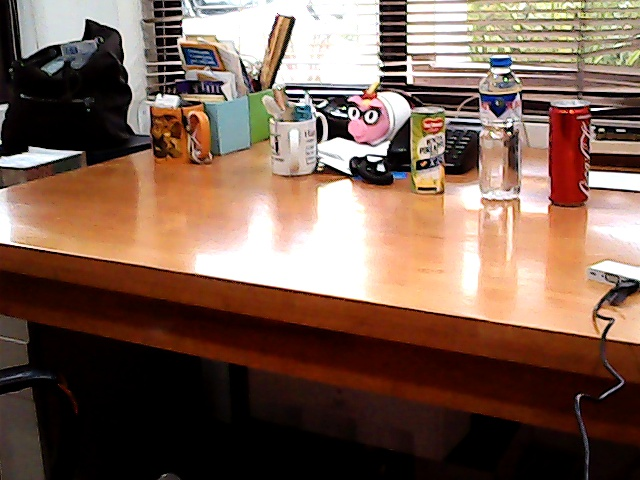Cola: (541, 96, 604, 211)
Pine Juice: (401, 98, 459, 198)
Summit Water: (471, 48, 532, 208)
